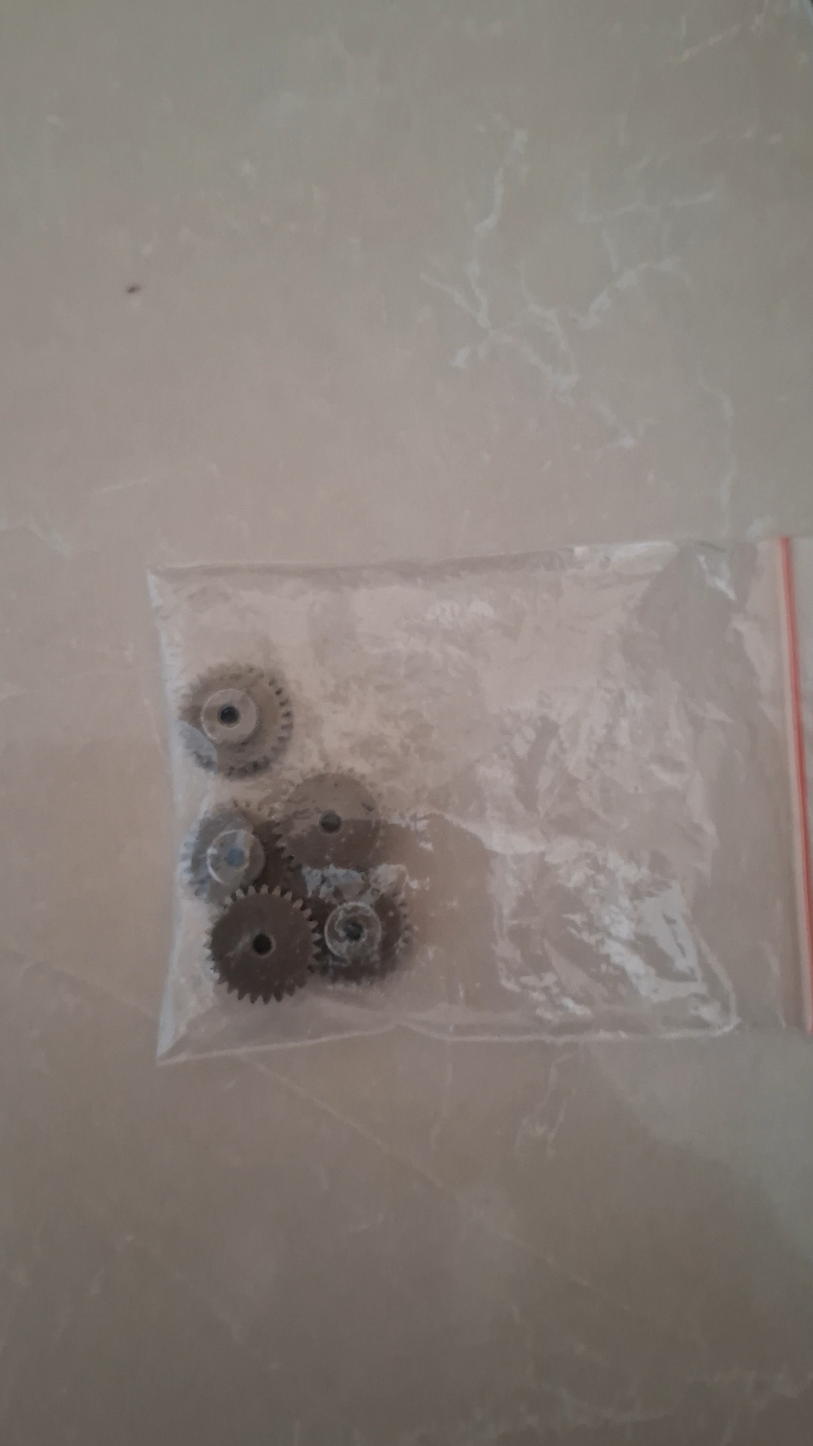spur gear: (179, 666, 292, 777), (209, 886, 317, 1002), (183, 803, 303, 904), (279, 772, 380, 869), (320, 886, 411, 979)
